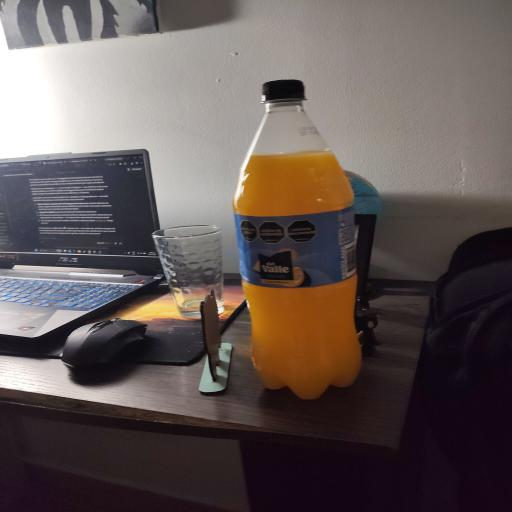Jugo del valle: (234, 81, 360, 398)
